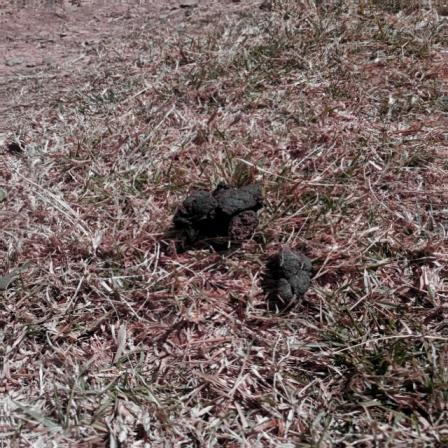dog-poop: (168, 167, 270, 248), (270, 246, 324, 314)
